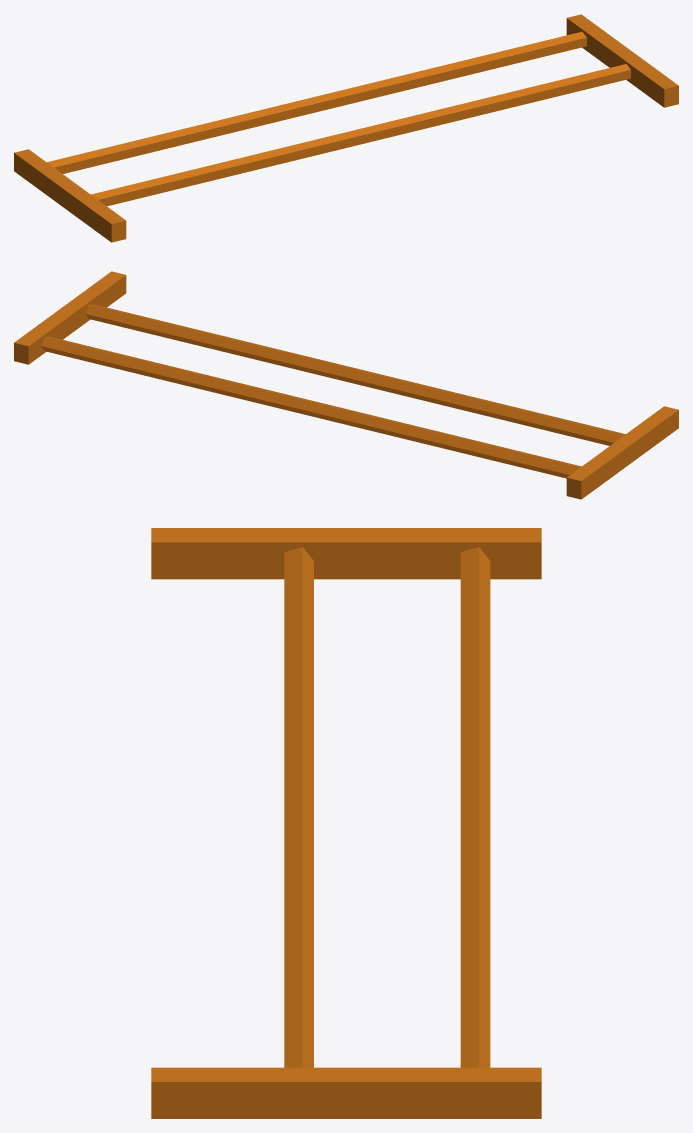
Rendered from Fence.fbx.
3 renders of one model, top to bottom at view 1: azimuth 30°, elevation 25°; view 2: azimuth 150°, elevation 25°; view 3: azimuth 270°, elevation 25°, orthographic. The views are drawn at different scales.
Parts seen in each view (by area): view 1: Fence; view 2: Fence; view 3: Fence.
Part boxes in pixels (box(x1,y1,x2,y2)): Fence: box(14, 14, 678, 242); Fence: box(14, 271, 678, 499); Fence: box(151, 528, 541, 1118).
Bounding box in the file's own units: 51.38 × 1.6 × 15.3.
